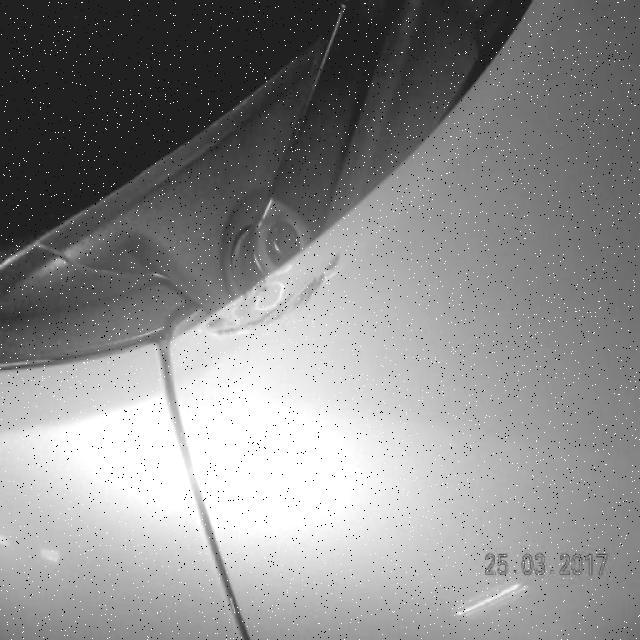car damage: (203, 247, 351, 340)
